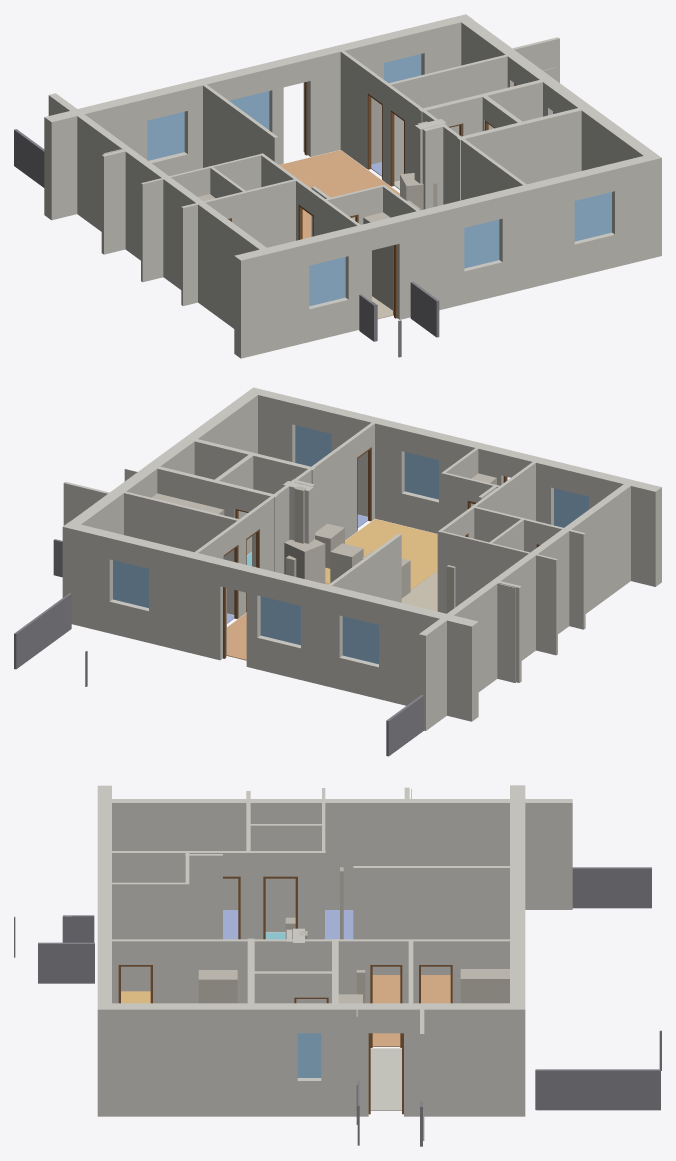
3 views of the same model, one above another, from view 1: azimuth 30°, elevation 25°; view 2: azimuth 150°, elevation 25°; view 3: azimuth 270°, elevation 25° (orthographic). The views are drawn at different scales.
Visible parts, largest first — view 1: walls, railings, floor_1_Living_Room, window_0, window_3, window_6, window_1, furniture_7_closet, window_4, window_2, furniture_21_fireplace, furniture_0_closet; view 2: walls, railings, floor_3_Kitchen, window_4, window_3, window_2, furniture_21_fireplace, window_1, window_0, window_6, floor_2_Entry, furniture_11_appliance (+3 smaller); view 3: walls, railings, floor_1_Living_Room, floor_5_Undefined, furniture_0_closet, furniture_6_closet, window_7, floor_0_Bed_Room.
Boxes of the visible parts, x1,y1,x2,y2 form: walls: (44, 14, 661, 358); railings: (14, 129, 439, 357); floor_1_Living_Room: (279, 150, 399, 238); window_0: (574, 192, 611, 241); window_3: (147, 111, 184, 160); window_6: (309, 257, 345, 306); window_1: (464, 219, 499, 268); furniture_7_closet: (363, 212, 392, 310); window_4: (229, 91, 269, 129); window_2: (384, 54, 421, 82); furniture_21_fireplace: (400, 173, 437, 209); furniture_0_closet: (371, 97, 381, 164); walls: (62, 387, 661, 730); railings: (14, 539, 423, 756); floor_3_Kitchen: (325, 519, 437, 589); window_4: (260, 596, 300, 645); window_3: (342, 616, 378, 664); window_2: (113, 560, 148, 607); furniture_21_fireplace: (284, 539, 325, 583); window_1: (404, 452, 438, 499); window_0: (295, 425, 331, 466); window_6: (554, 488, 588, 527); floor_2_Entry: (401, 570, 437, 611); furniture_11_appliance: (330, 543, 363, 582); walls: (97, 785, 572, 1140); railings: (14, 867, 661, 1146); floor_1_Living_Room: (372, 975, 450, 1046); floor_5_Undefined: (370, 1048, 401, 1110); furniture_0_closet: (460, 969, 509, 1003); furniture_6_closet: (198, 970, 237, 1003); window_7: (297, 1033, 321, 1077); floor_0_Bed_Room: (326, 910, 353, 939).
Size of the model in its own units: 13.77 by 2.72 by 14.83.
